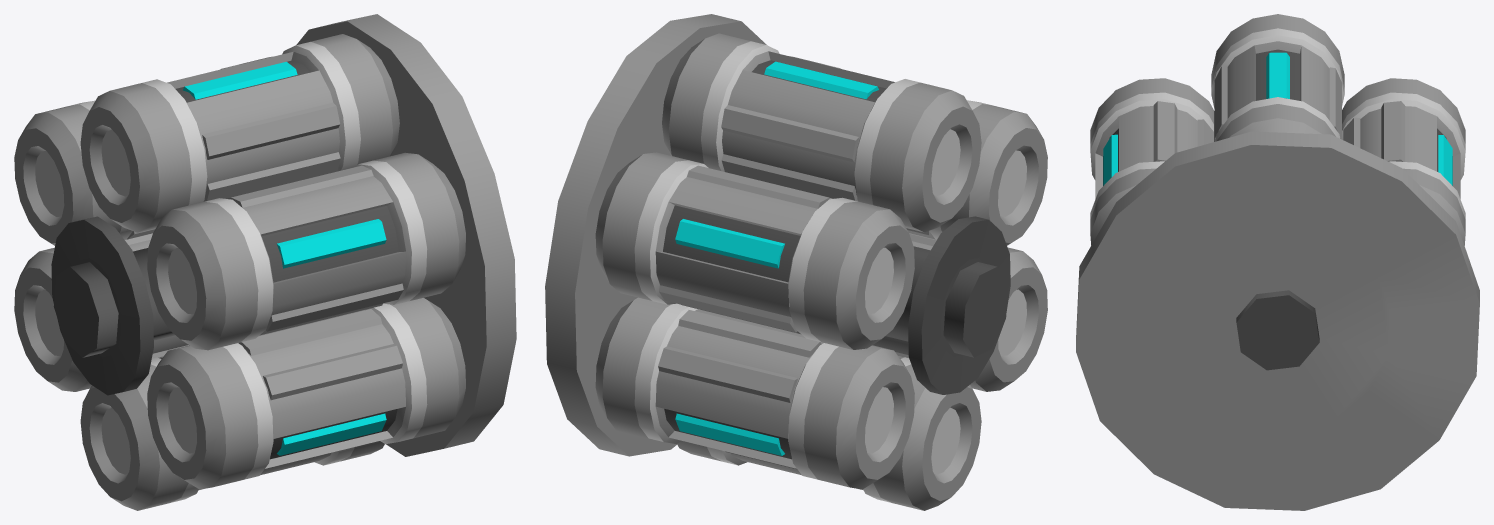
Rendered from SM_GrenadeLauncher_Drum.fbx.
The picture shows the model from 3 angles, left to right: view 1: azimuth 30°, elevation 25°; view 2: azimuth 150°, elevation 25°; view 3: azimuth 270°, elevation 25°; orthographic projection. The views are drawn at different scales.
Parts seen in each view (by area): view 1: SM_Grenade_2, SM_Grenade_3, SM_Grenade_1, SM_GrenadeLauncher_Drum, SM_Grenade_4, SM_Grenade_5, SM_Grenade_6; view 2: SM_Grenade_5, SM_Grenade_6, SM_GrenadeLauncher_Drum, SM_Grenade_1, SM_Grenade_4, SM_Grenade_2, SM_Grenade_3; view 3: SM_GrenadeLauncher_Drum, SM_Grenade_1, SM_Grenade_2, SM_Grenade_5.
Boxes of the visible parts, <box> form: SM_Grenade_2: <box>147,152,465,350</box>; SM_Grenade_3: <box>147,298,465,489</box>; SM_Grenade_1: <box>80,34,399,232</box>; SM_GrenadeLauncher_Drum: <box>51,14,516,456</box>; SM_Grenade_4: <box>80,356,384,510</box>; SM_Grenade_5: <box>14,56,272,245</box>; SM_Grenade_6: <box>14,233,188,391</box>; SM_Grenade_5: <box>595,152,914,349</box>; SM_Grenade_6: <box>595,297,914,489</box>; SM_GrenadeLauncher_Drum: <box>545,14,1010,456</box>; SM_Grenade_1: <box>662,33,981,232</box>; SM_Grenade_4: <box>677,356,981,510</box>; SM_Grenade_2: <box>790,56,1047,245</box>; SM_Grenade_3: <box>872,233,1047,391</box>; SM_GrenadeLauncher_Drum: <box>1076,131,1479,510</box>; SM_Grenade_1: <box>1211,14,1344,141</box>; SM_Grenade_2: <box>1090,78,1213,245</box>; SM_Grenade_5: <box>1342,78,1465,245</box>.
Bounding box in the file's own units: 14.27 × 16.4 × 16.
